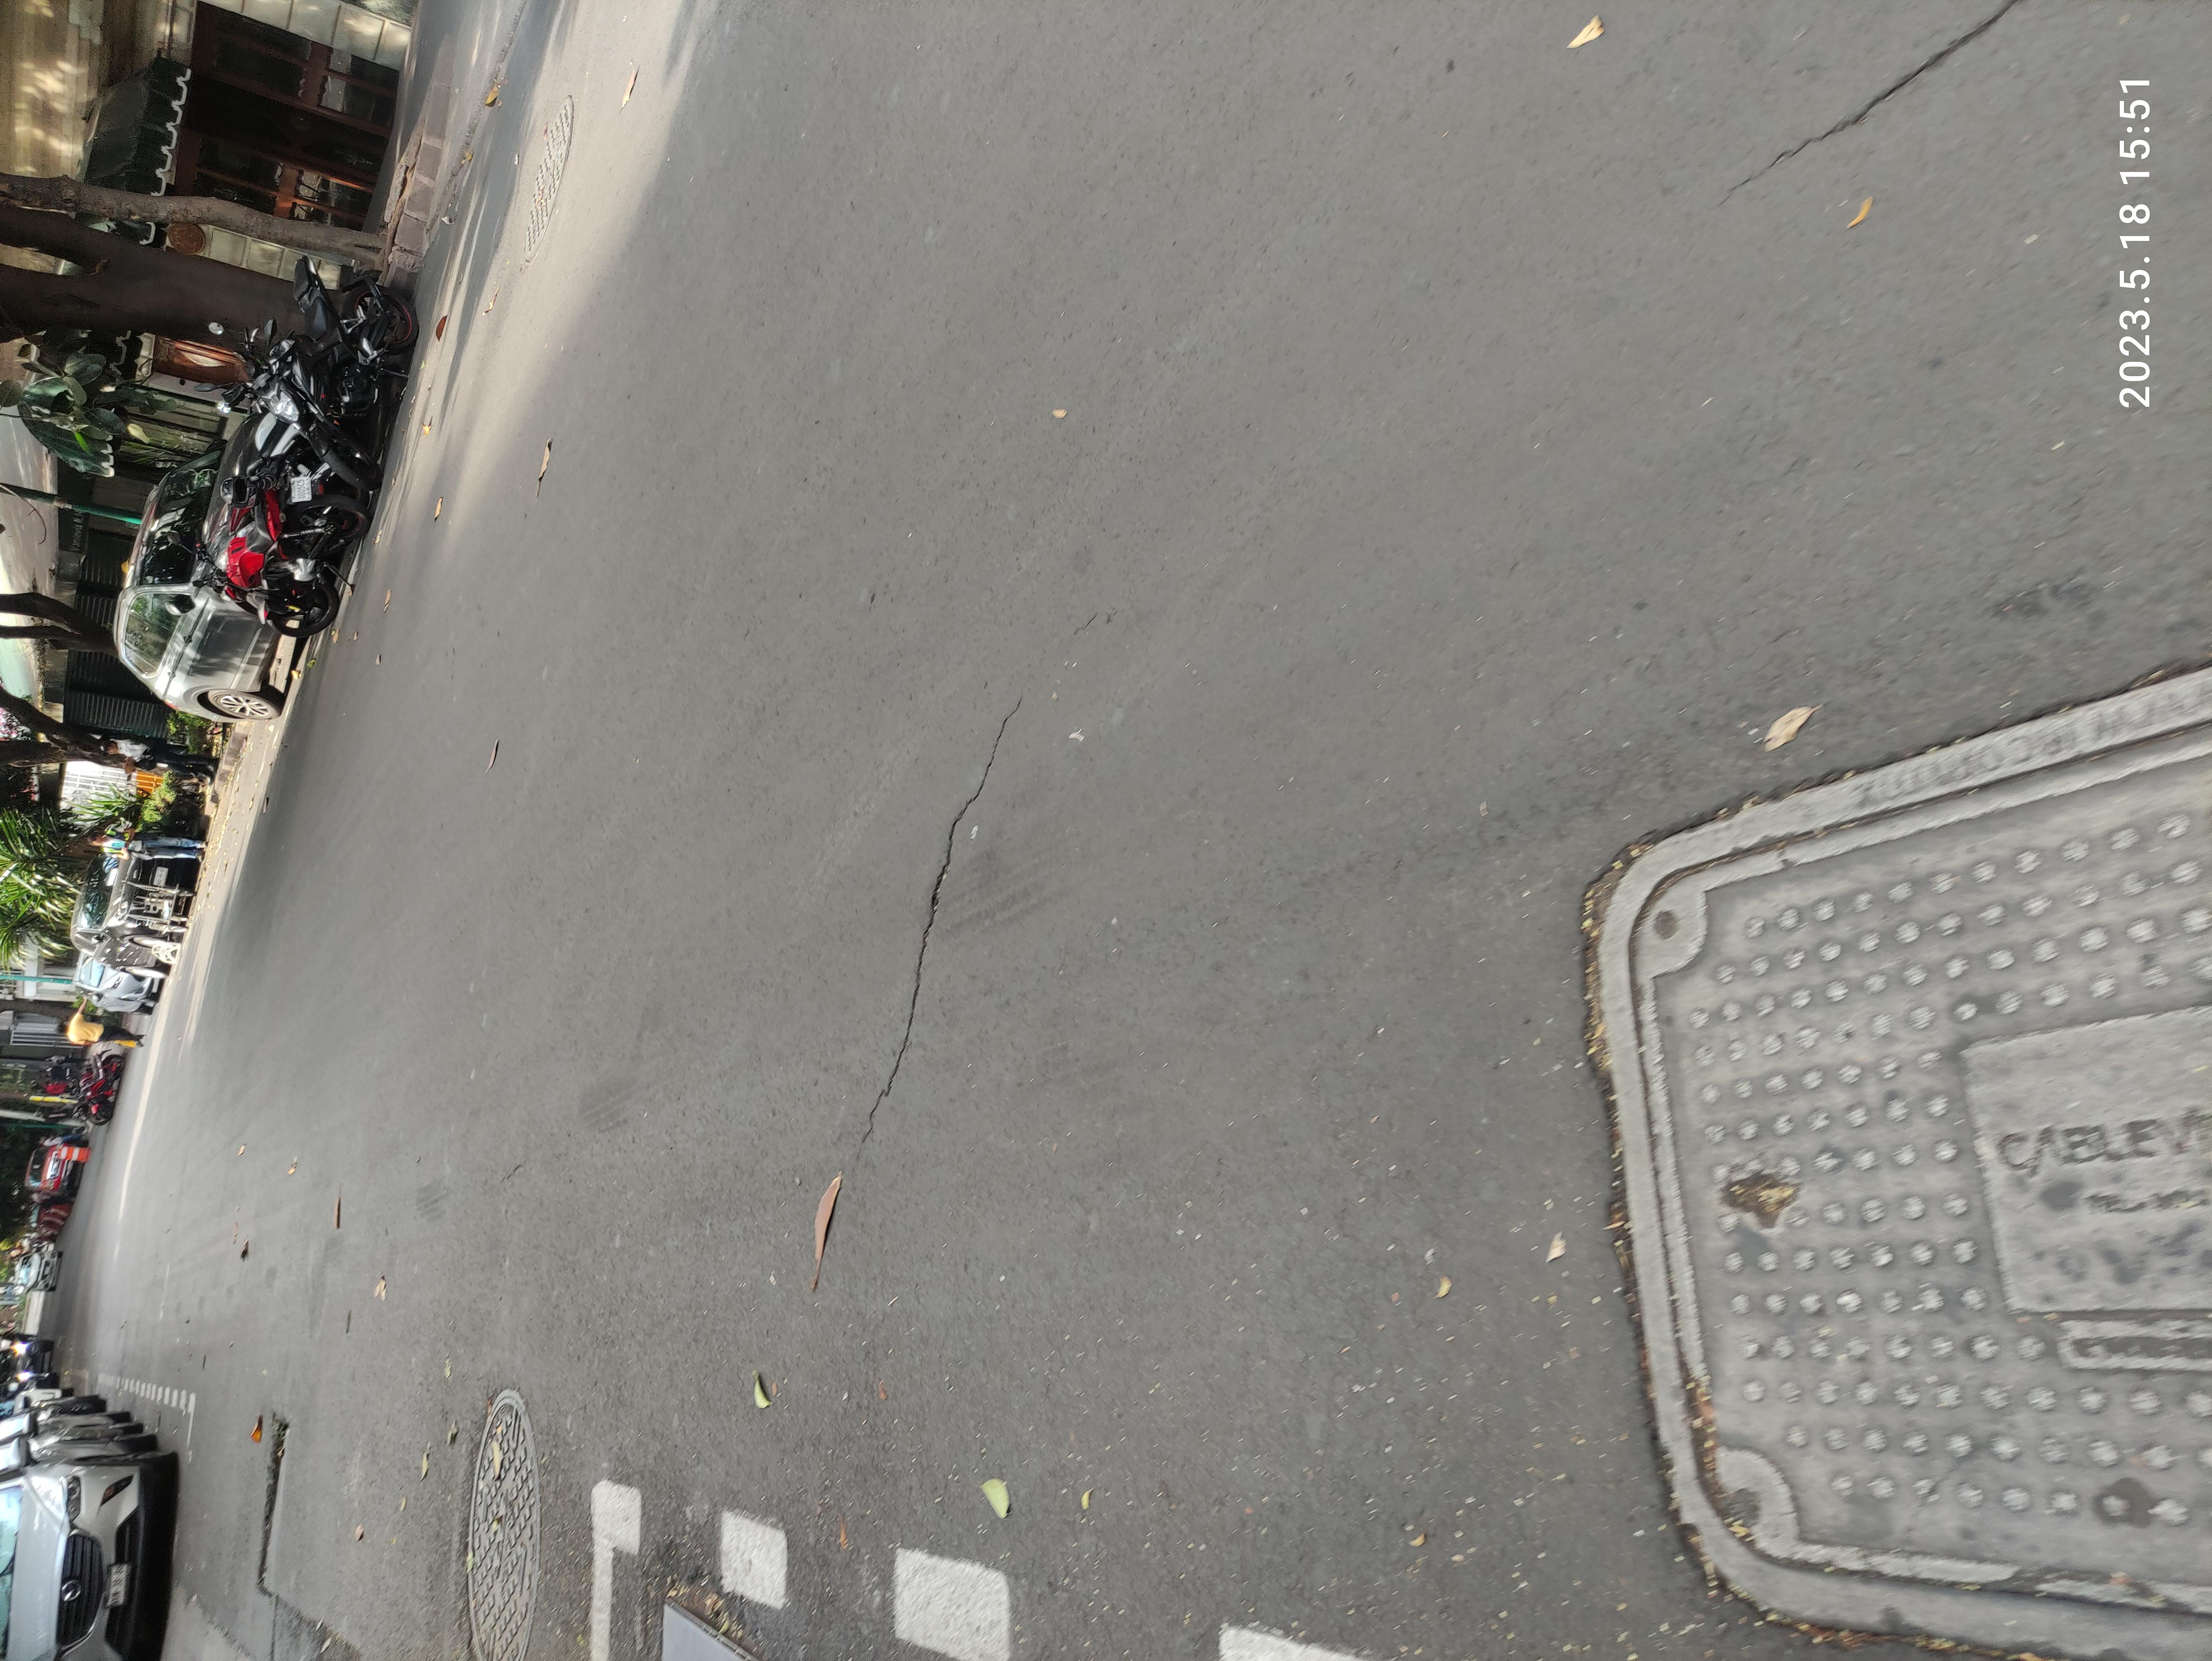crack: (675, 633, 1298, 783), (1928, 1282, 2198, 1509), (2, 199, 79, 216)
pothole: (85, 187, 333, 223)
